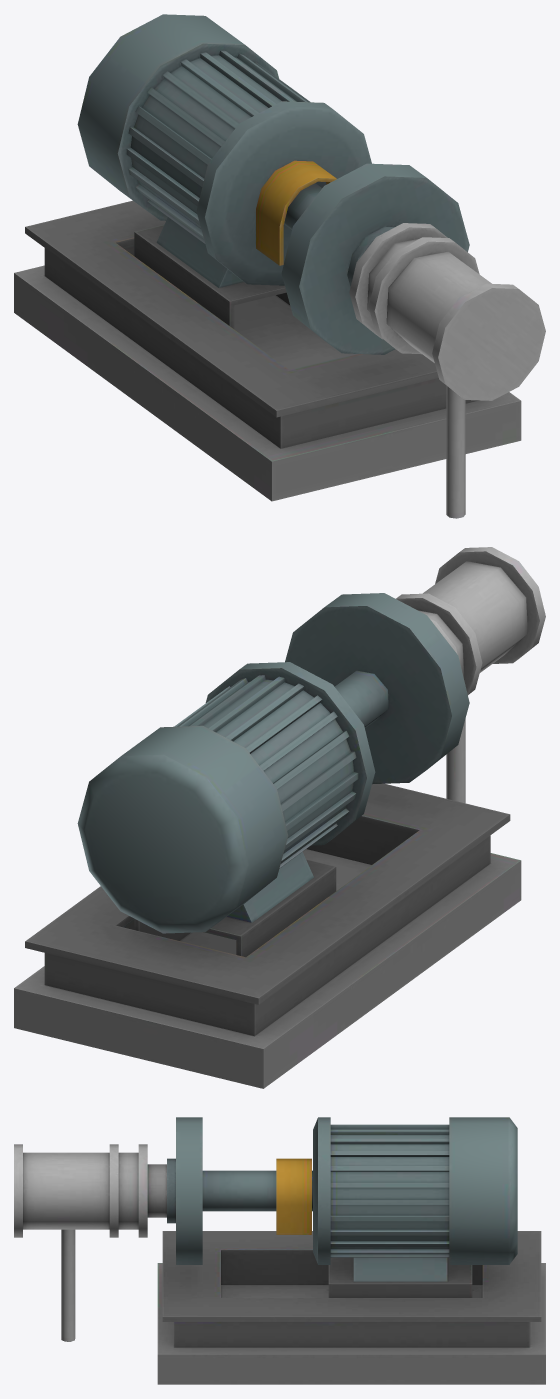
3 renders of one model, top to bottom at view 1: azimuth 30°, elevation 25°; view 2: azimuth 150°, elevation 25°; view 3: azimuth 270°, elevation 25°, orthographic. The views are drawn at different scales.
Parts seen in each view (by area): view 1: Utility_1F_Ect_Pump L02; view 2: Utility_1F_Ect_Pump L02; view 3: Utility_1F_Ect_Pump L02.
Boxes of the visible parts, x1,y1,x2,y2 form: Utility_1F_Ect_Pump L02: (14, 14, 545, 518); Utility_1F_Ect_Pump L02: (14, 547, 545, 1088); Utility_1F_Ect_Pump L02: (14, 1117, 545, 1384).
Size of the model in its own units: 0.163 by 0.1784 by 0.3998.
Materials: 1 (1 with a texture image).
